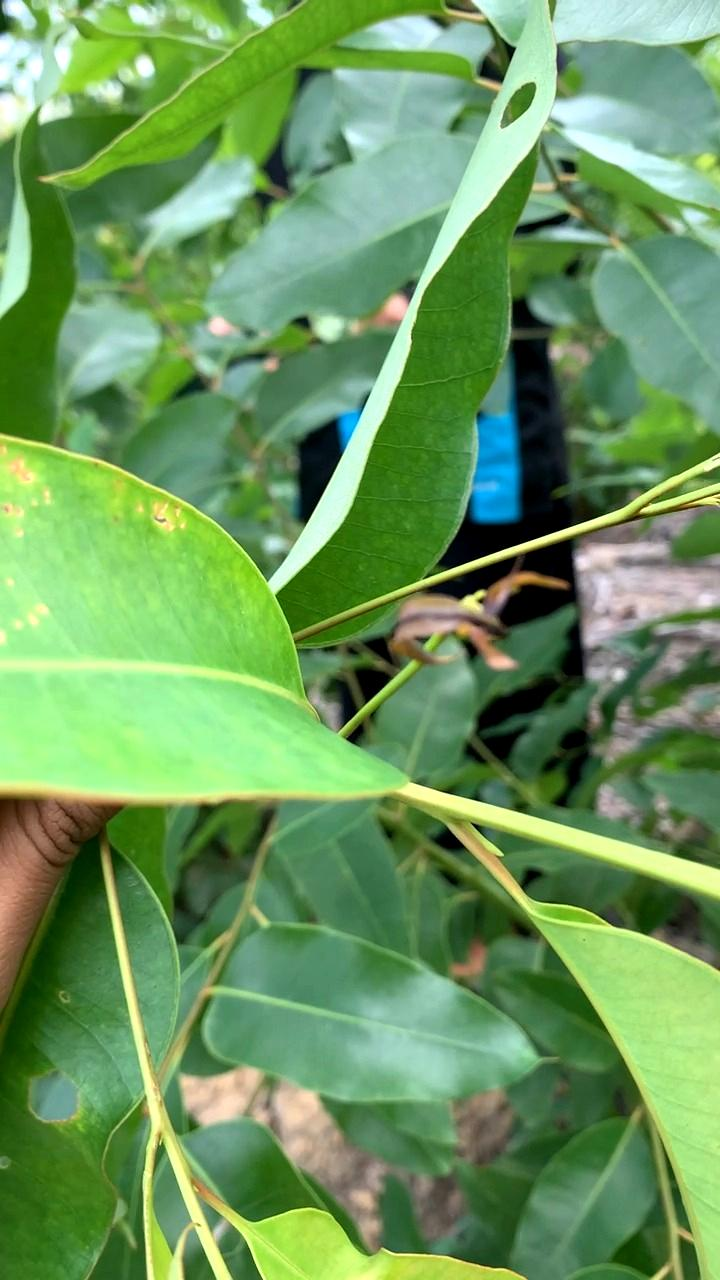Helopeltis-Withered Sprout: (373, 538, 593, 709)
